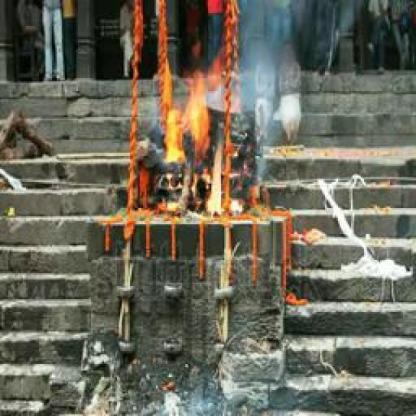fire: (160, 64, 224, 222)
